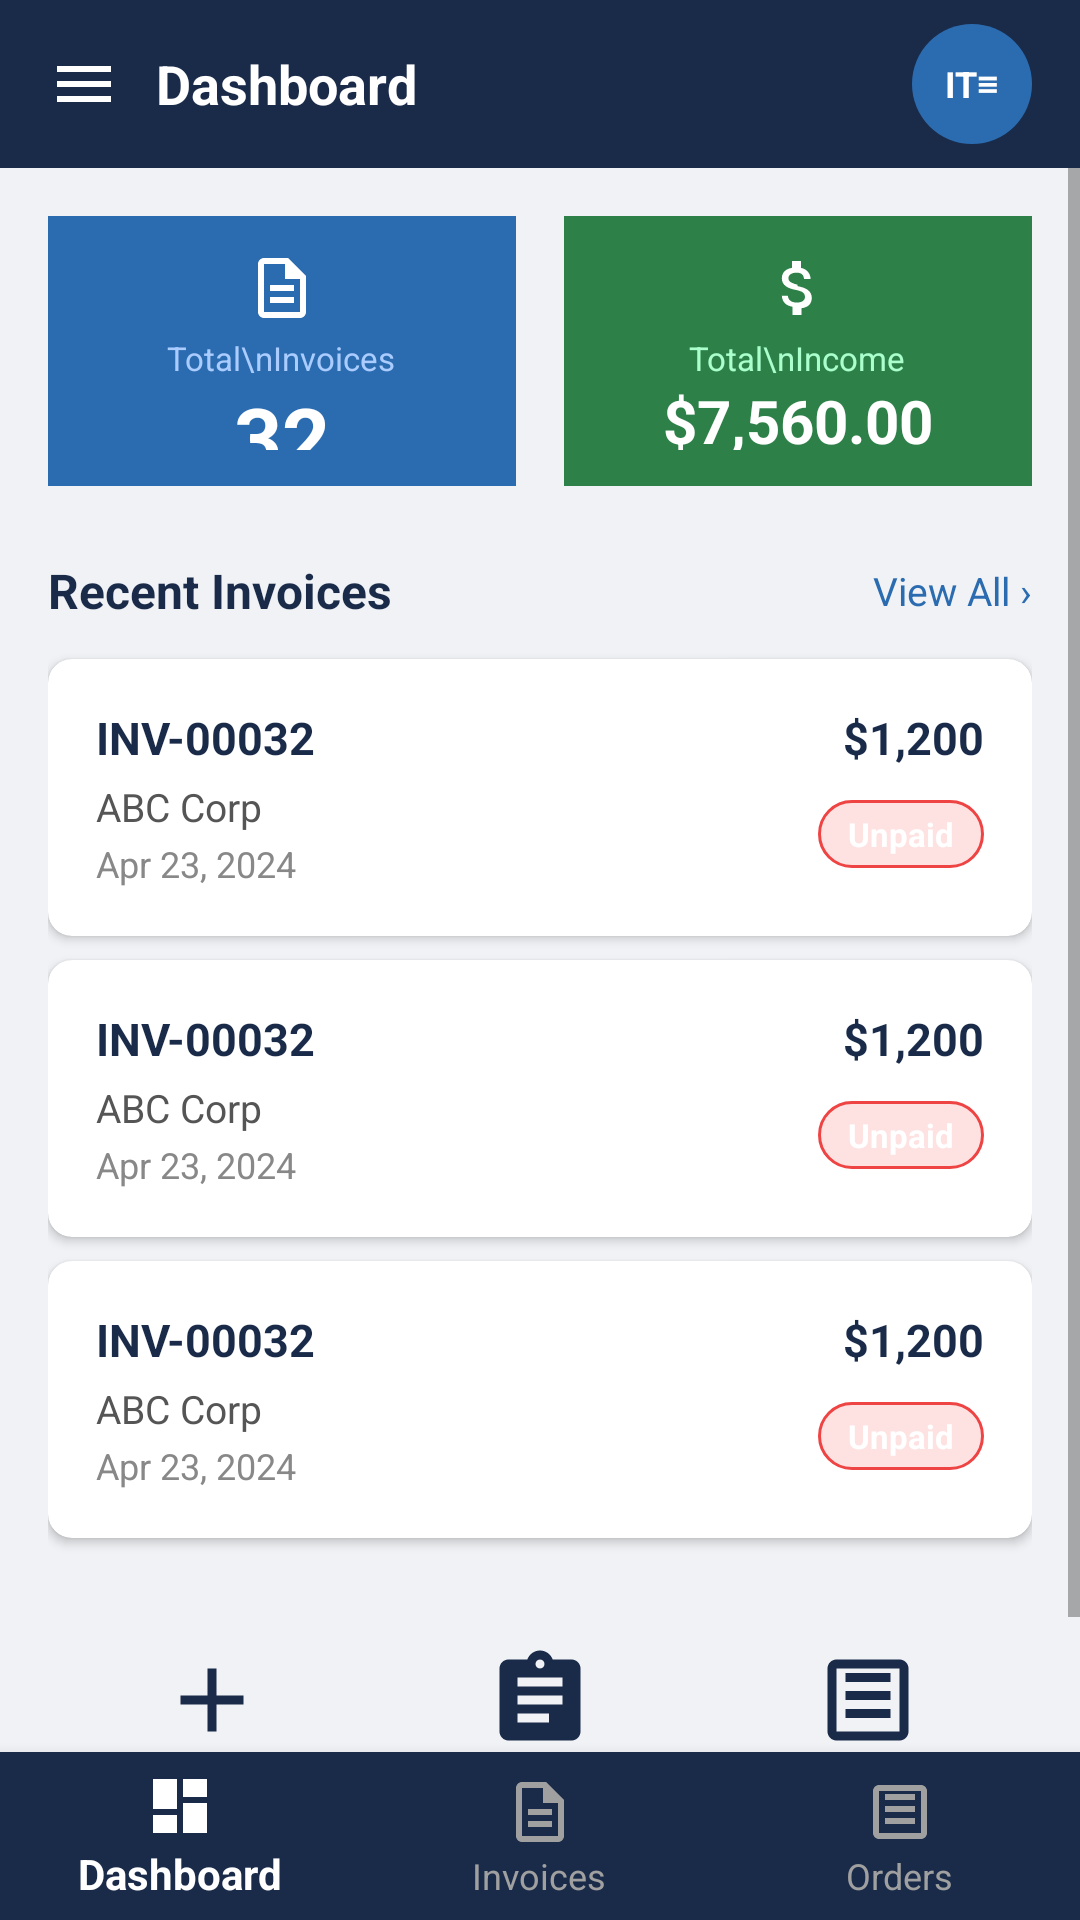

Where to tap for icons on this 1080w x 1920h app screen, as [x,y]:
Create Invoice: [212,1700]
Menu: [84,84]
